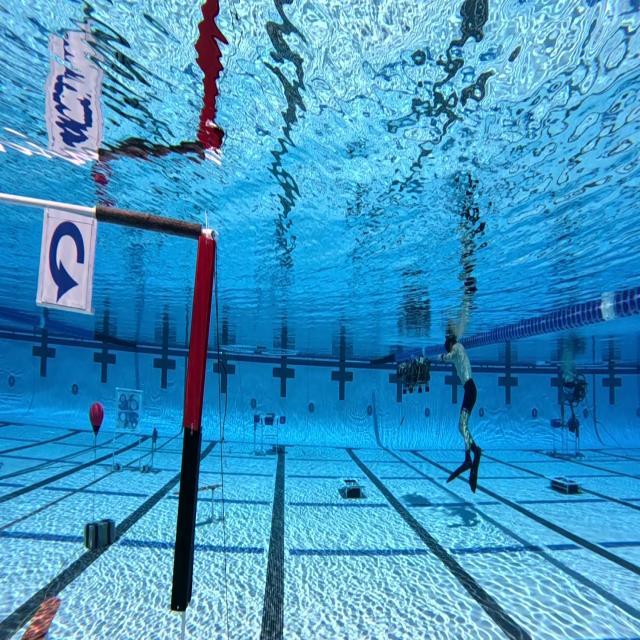blue_side: (35, 194, 103, 320)
